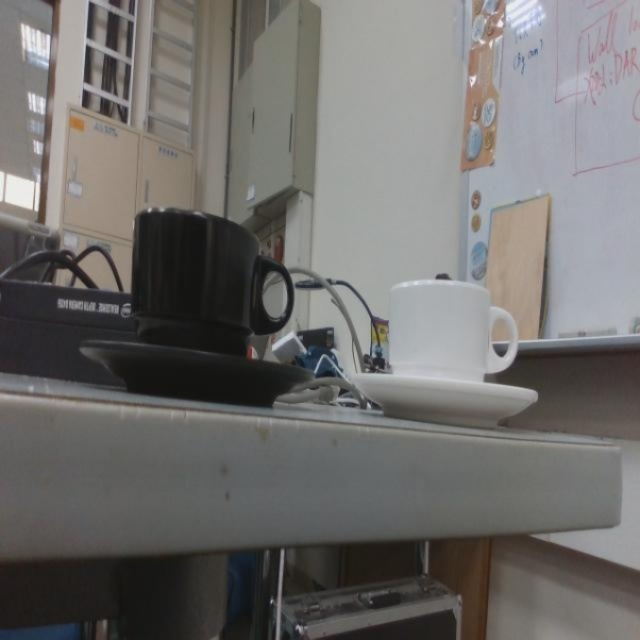black: (76, 203, 320, 412)
white: (347, 274, 540, 432)
